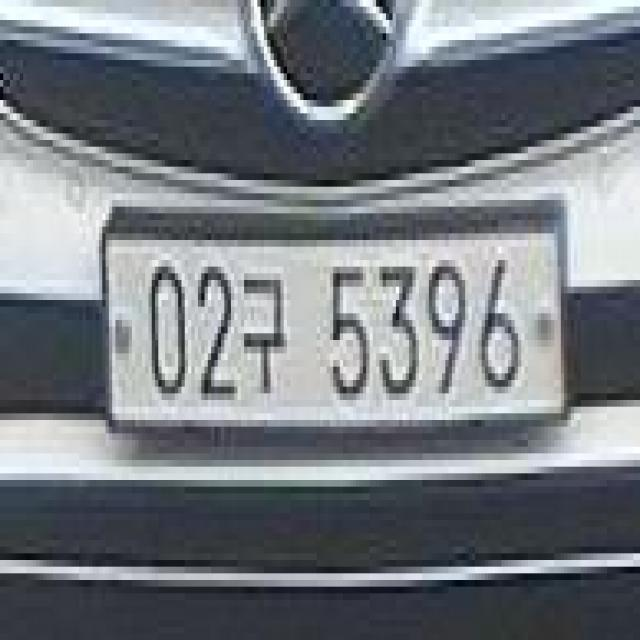illegal_plate: (101, 201, 568, 453)
